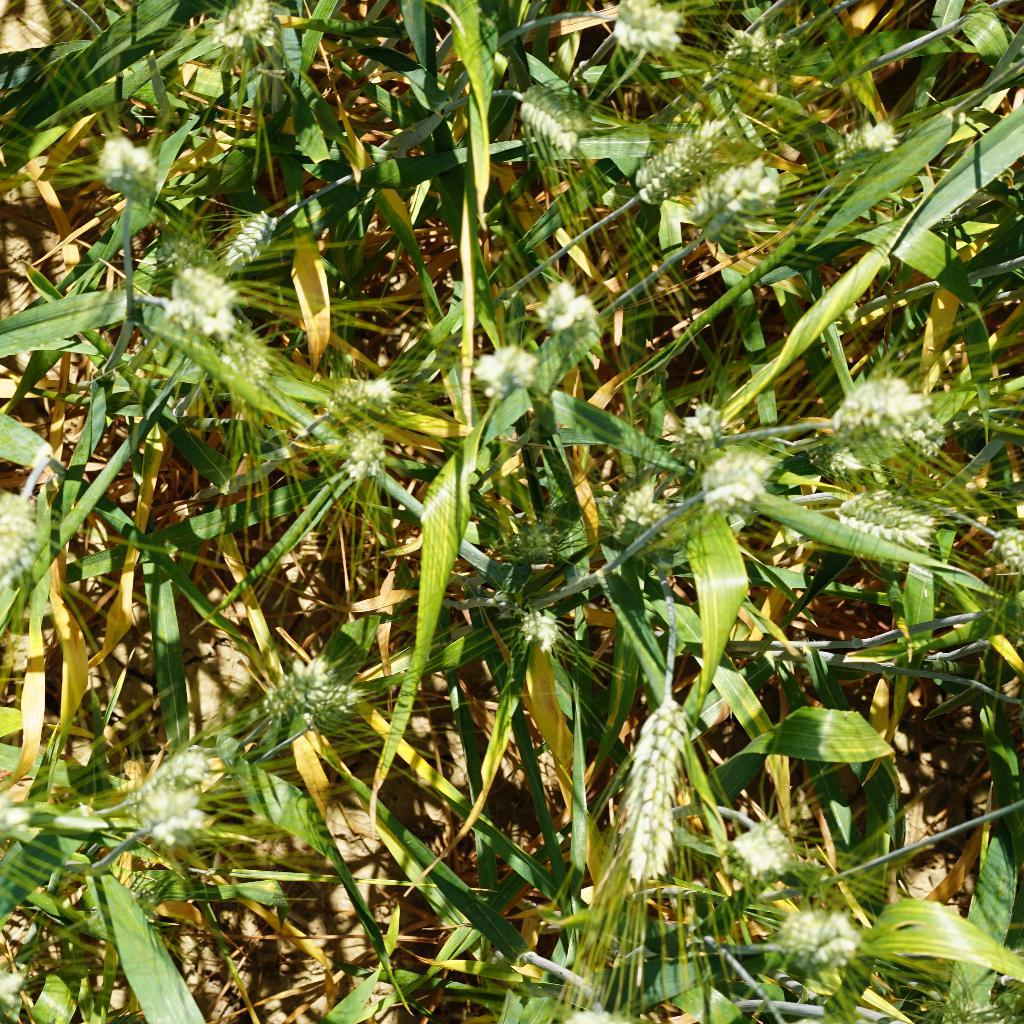0-0: (626, 675, 709, 892), (819, 357, 960, 455), (825, 478, 950, 561), (628, 109, 722, 204), (103, 729, 208, 811), (763, 897, 867, 979), (710, 807, 806, 892), (684, 156, 791, 230), (130, 792, 246, 858), (310, 410, 397, 490), (243, 641, 317, 728), (157, 260, 236, 340), (215, 191, 290, 273), (701, 445, 780, 522), (600, 462, 676, 539), (601, 0, 690, 64), (314, 358, 410, 417), (707, 10, 772, 93), (0, 475, 44, 597), (530, 269, 602, 343), (93, 130, 163, 205), (301, 660, 366, 740), (201, 0, 295, 55), (825, 118, 905, 182), (475, 336, 539, 414), (519, 88, 582, 163), (504, 591, 563, 669), (508, 499, 565, 578), (217, 326, 280, 396), (673, 406, 729, 451), (984, 522, 1024, 581)
